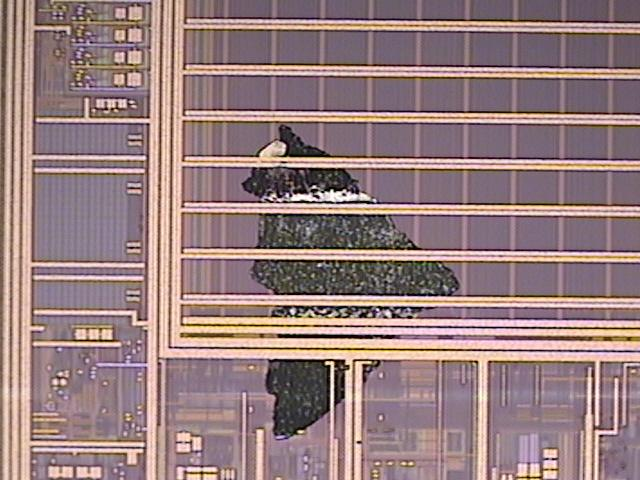BLOCK ETCH: (240, 124, 462, 443)
